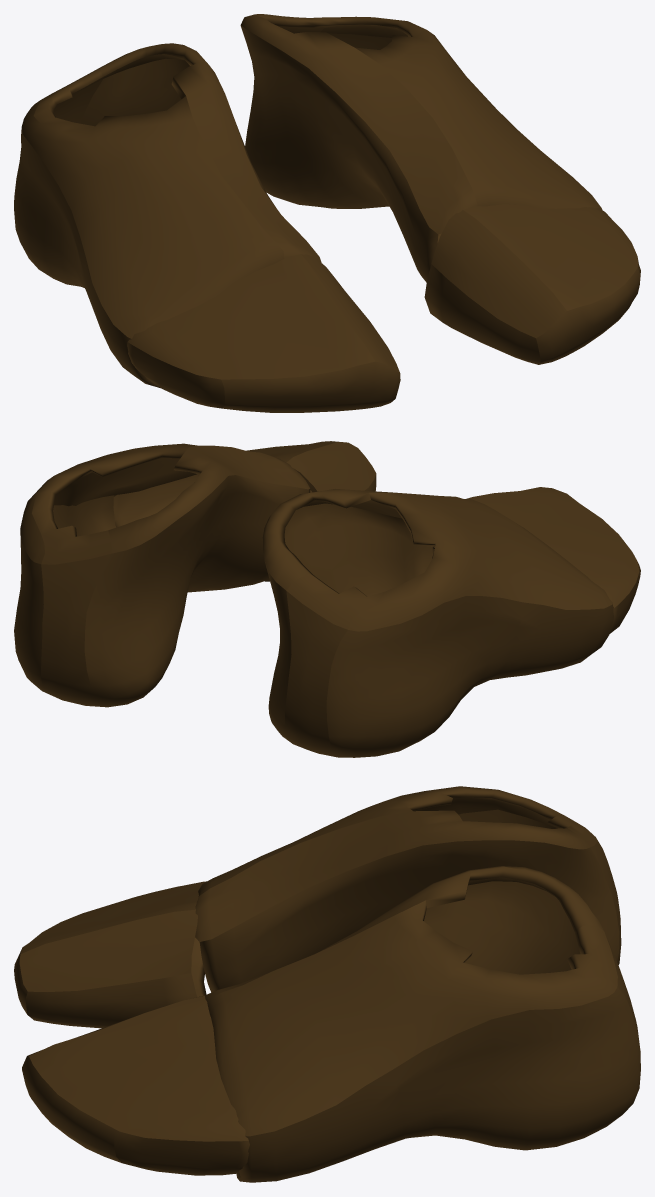
File: feets.fbx
3 renders of one model, top to bottom at view 1: azimuth 30°, elevation 25°; view 2: azimuth 150°, elevation 25°; view 3: azimuth 270°, elevation 25°, orthographic. The views are drawn at different scales.
Parts seen in each view (by area): view 1: Feet_R, Feet_L; view 2: Feet_R, Feet_L; view 3: Feet_L, Feet_R.
Boxes of the visible parts, x1,y1,x2,y2 form: Feet_R: [14, 43, 400, 412]; Feet_L: [240, 14, 640, 364]; Feet_R: [262, 487, 640, 757]; Feet_L: [14, 441, 376, 707]; Feet_L: [22, 866, 640, 1182]; Feet_R: [14, 786, 621, 1028].
Size of the model in its own units: 3572 by 1469 by 3696.
